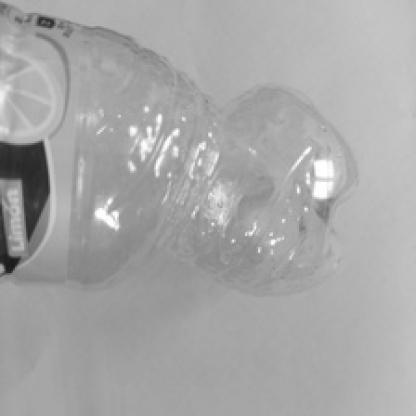plastic_bottles: (1, 7, 367, 285)
